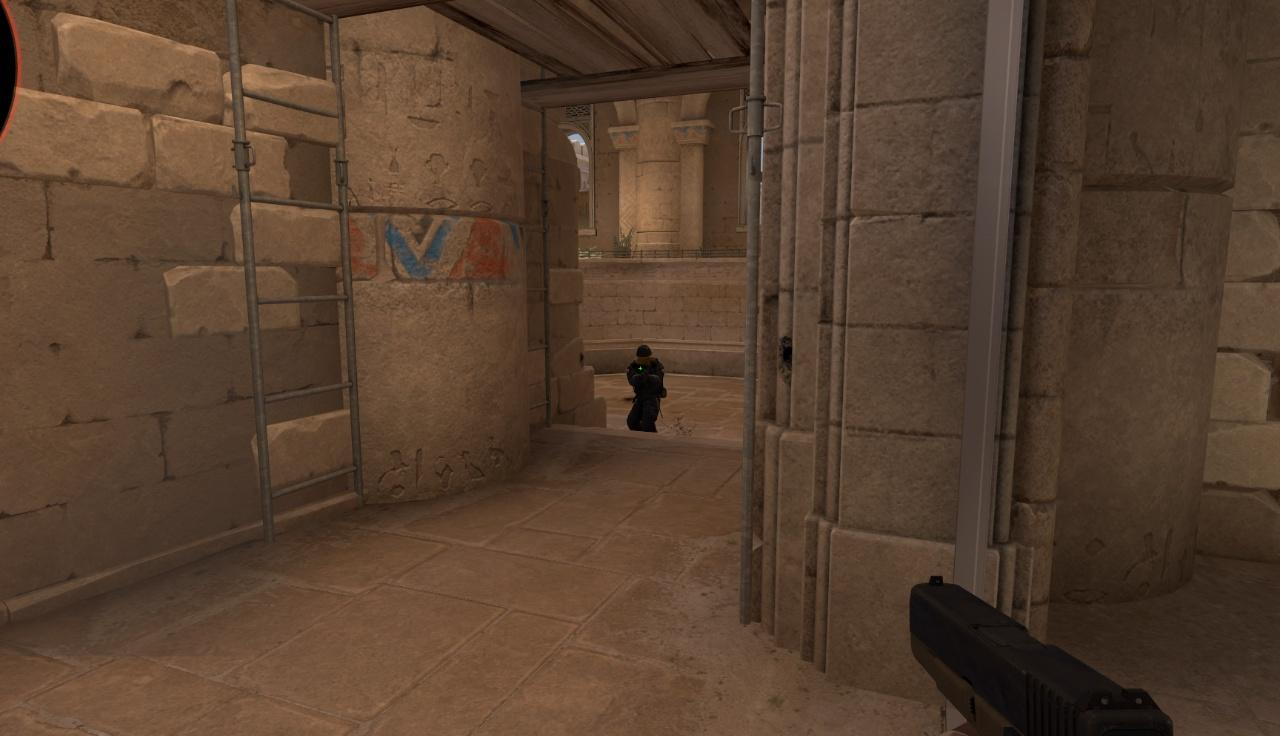ct: (624, 344, 664, 433)
cthead: (636, 344, 652, 367)
pistol: (907, 579, 1174, 733)
